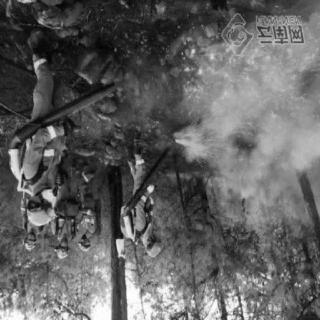Fire: (165, 34, 318, 174)
